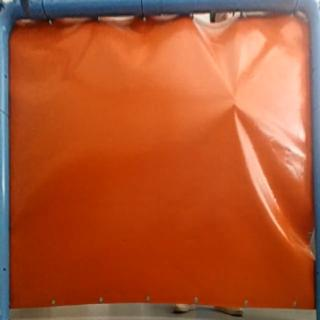Hit-hRxx: (230, 98, 240, 110)
